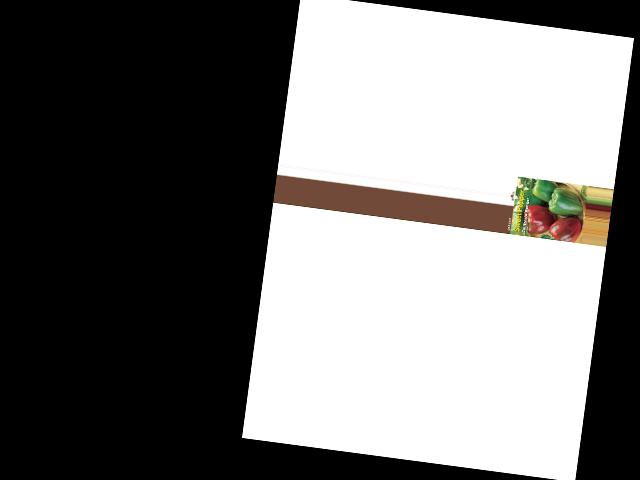bell_pepper: (529, 177, 562, 201)
